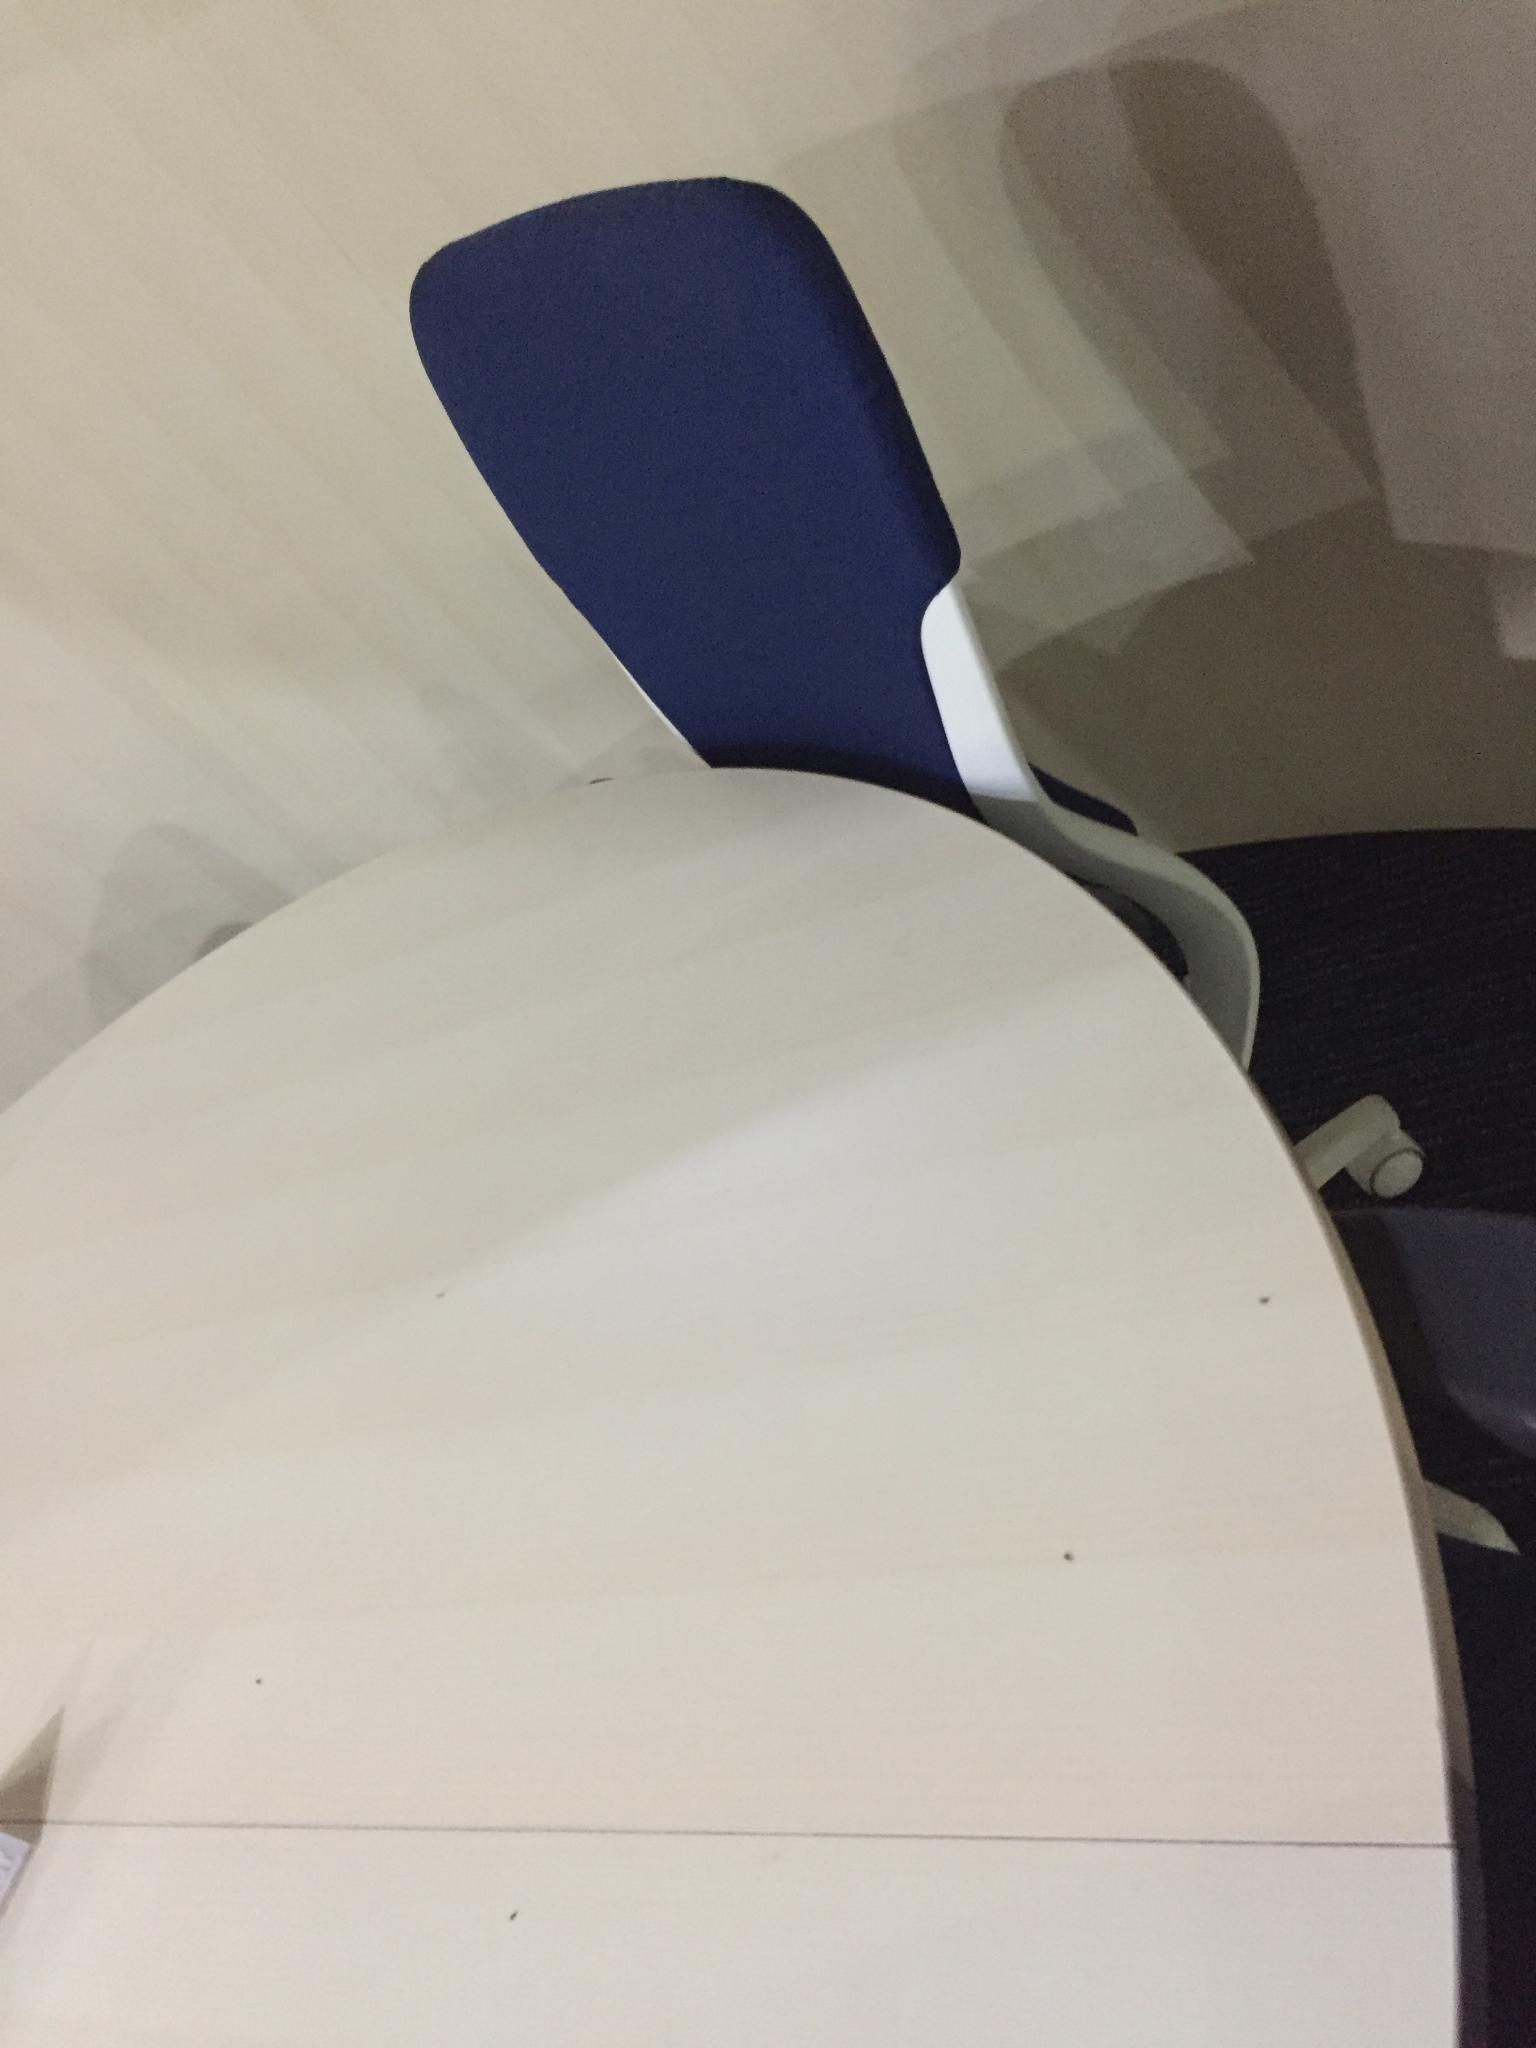chair: (3, 169, 1499, 2042)
